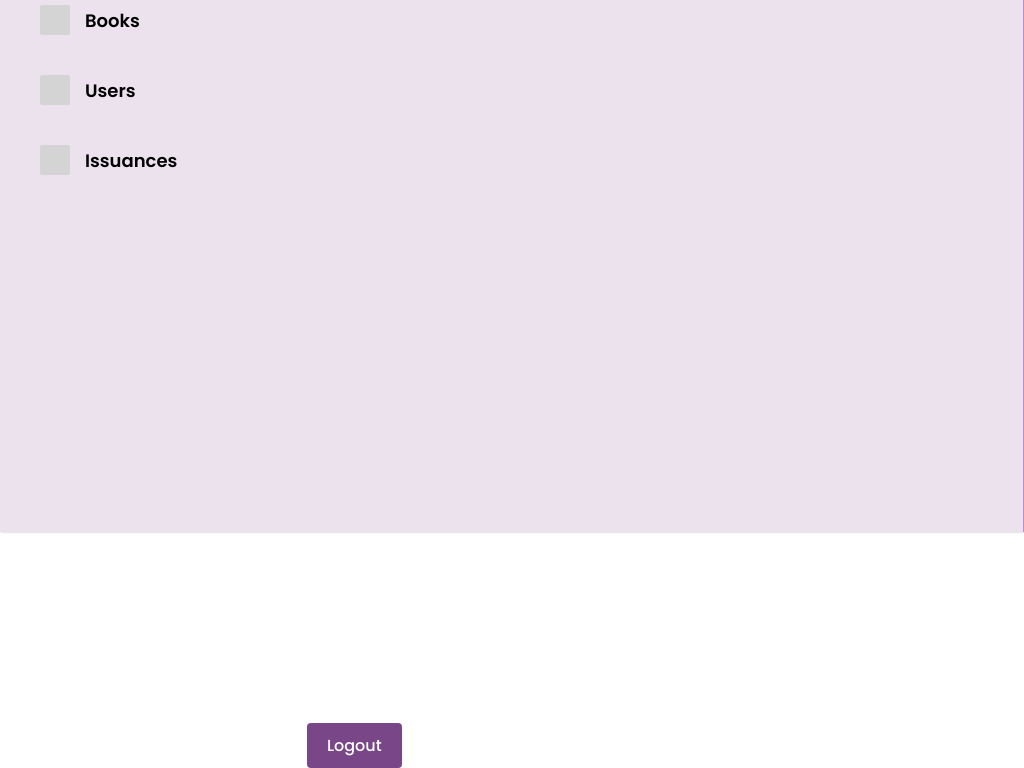
SideNav Component › opens logout confirmation modal when clicking logout button
(page scrolled)
Click the button "Logout": [354, 745] box [307, 722, 402, 767]
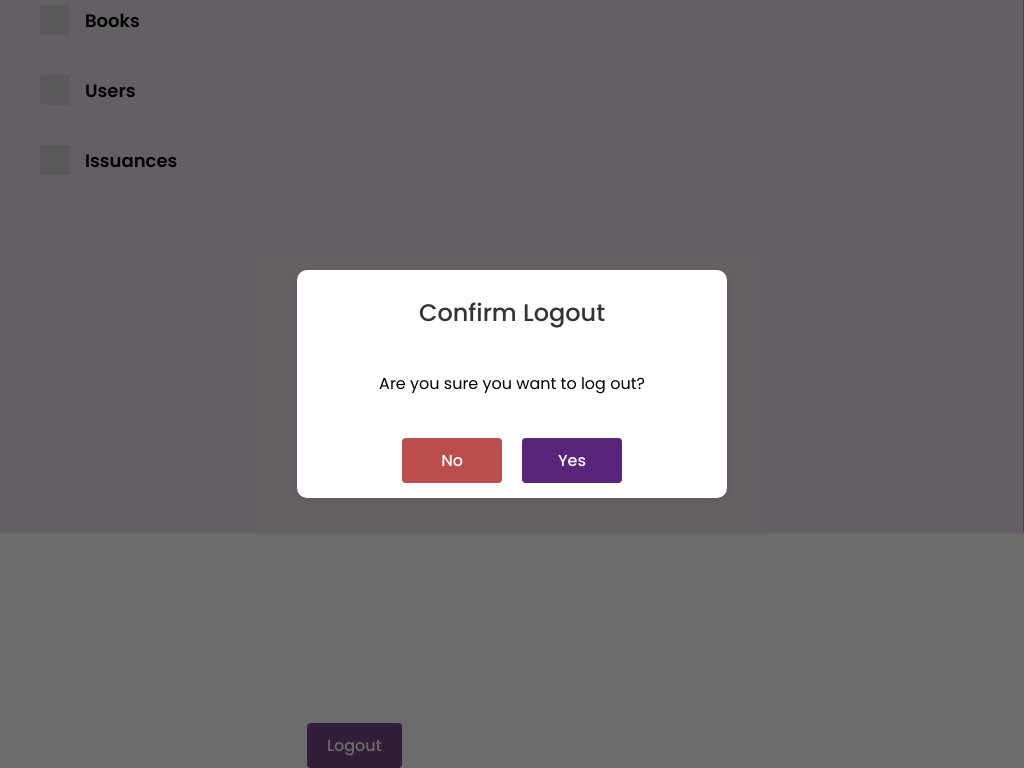
Now the text "Are you sure you want to log out?" is shown, box [379, 372, 645, 396]
